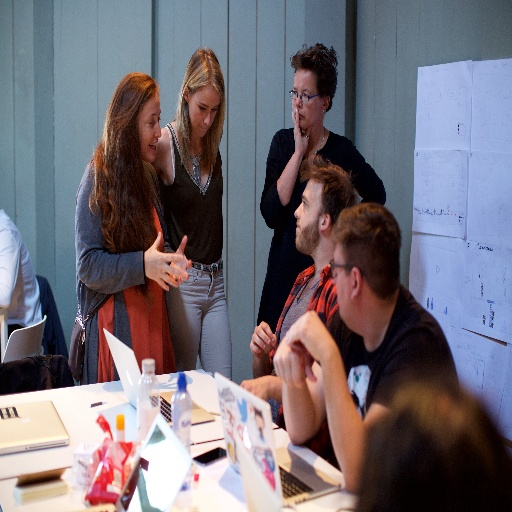hand: (282, 306, 335, 360), (272, 340, 317, 390), (169, 234, 193, 286), (247, 320, 277, 360), (291, 104, 312, 158), (239, 376, 269, 401)
